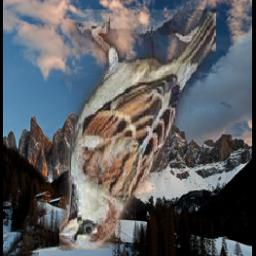Sparrow: (60, 11, 217, 251)
